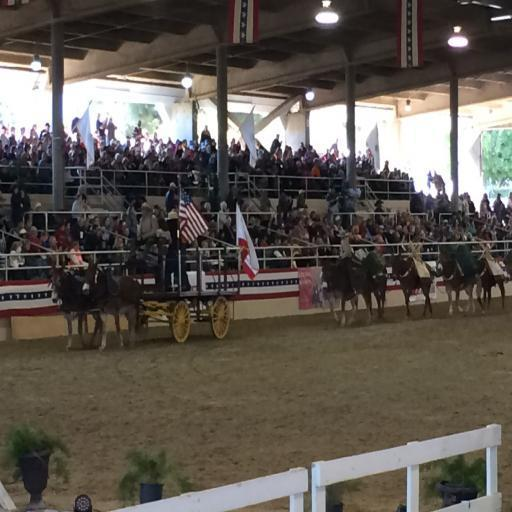horse: (82, 260, 142, 353), (50, 262, 102, 352), (434, 250, 484, 316), (389, 252, 434, 320)
